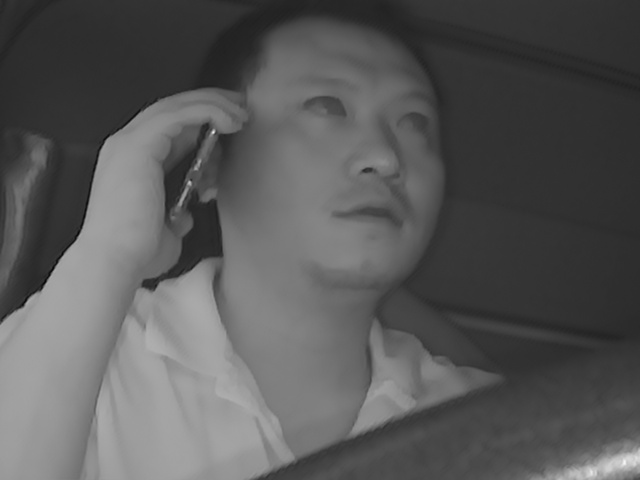hand: (75, 85, 218, 269)
